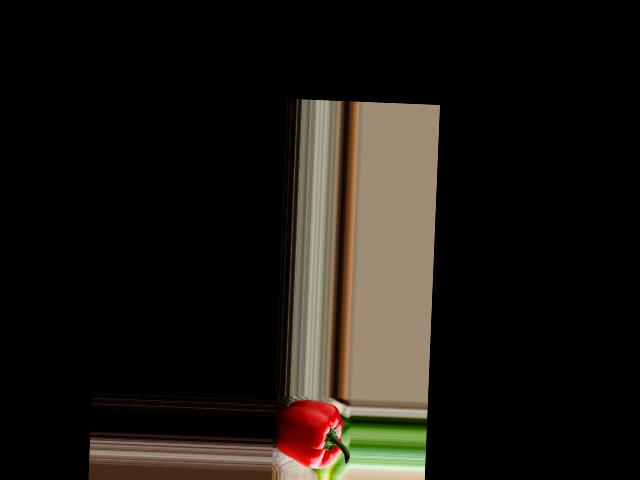bell_pepper: (270, 400, 350, 471)
